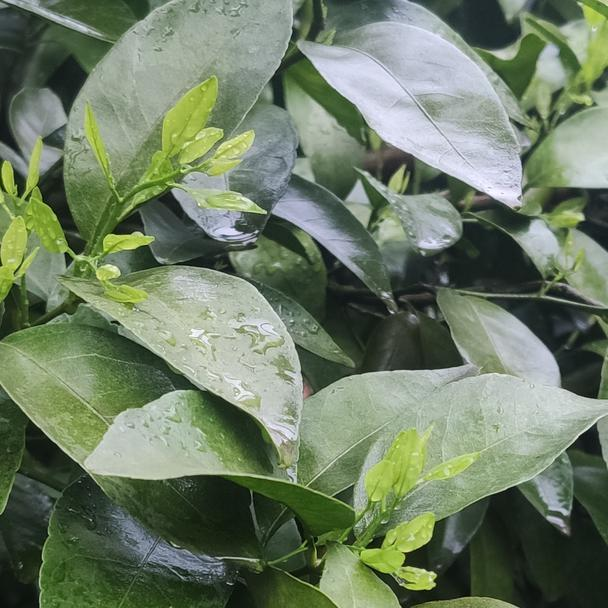shoot: (80, 109, 263, 233), (365, 424, 474, 522), (2, 148, 61, 320), (350, 514, 454, 590)
